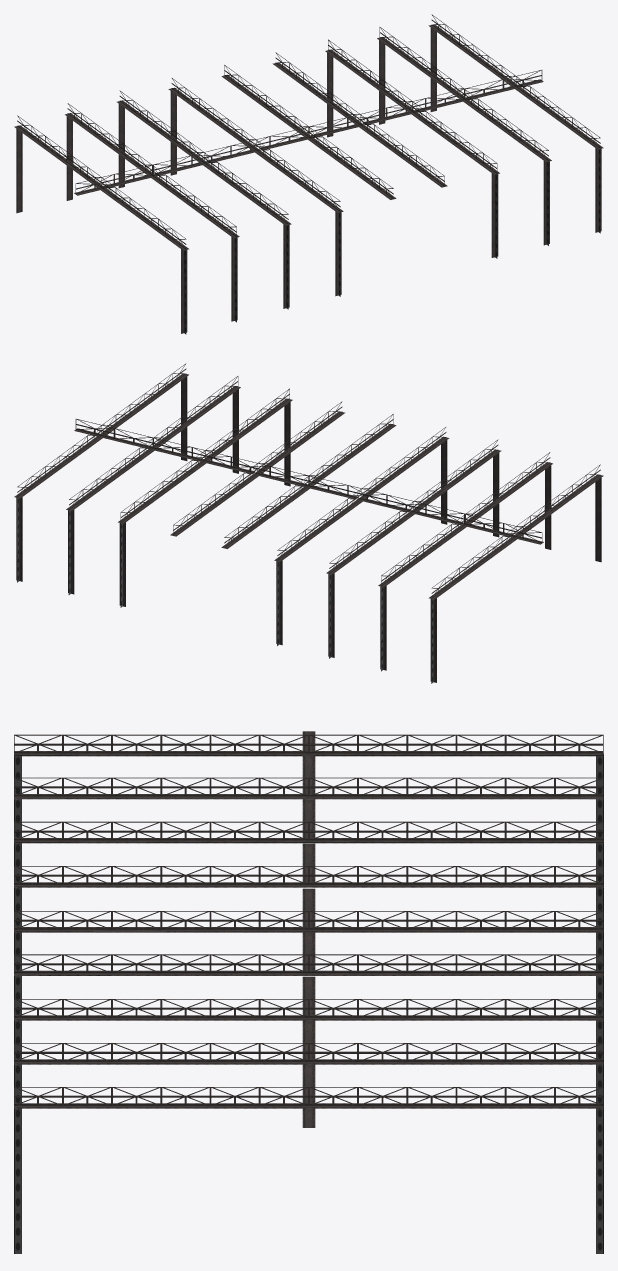
The model's file is vgnabatoir2.obj.
The picture shows the model from 3 angles, top to bottom: view 1: azimuth 30°, elevation 25°; view 2: azimuth 150°, elevation 25°; view 3: azimuth 270°, elevation 25°; orthographic projection. The views are drawn at different scales.
Visible parts, largest first — view 1: vgnabatoir2; view 2: vgnabatoir2; view 3: vgnabatoir2.
Boxes of the visible parts, bbox=[...] form: vgnabatoir2: bbox=[14, 14, 603, 334]; vgnabatoir2: bbox=[14, 363, 603, 683]; vgnabatoir2: bbox=[14, 731, 603, 1253].
Size of the model in its own units: 53.69 by 10.53 by 33.75.
Materials: 3 (3 with a texture image).
